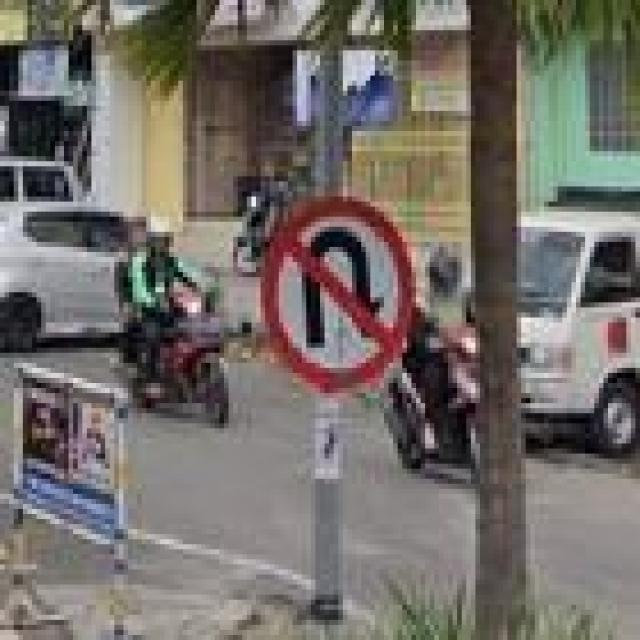traffic sign: (270, 202, 412, 393)
